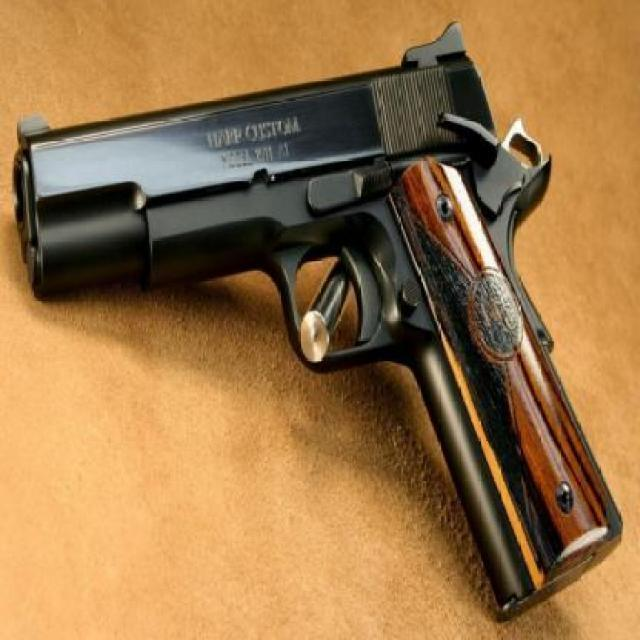gun: (13, 22, 624, 627)
